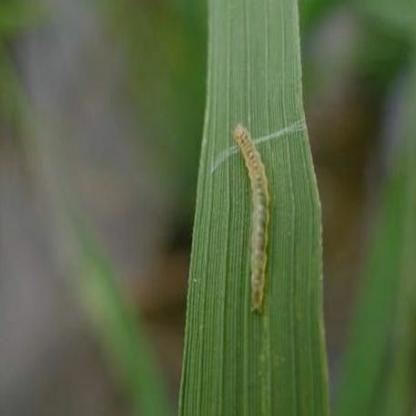leaf-folder: (230, 111, 280, 327)
